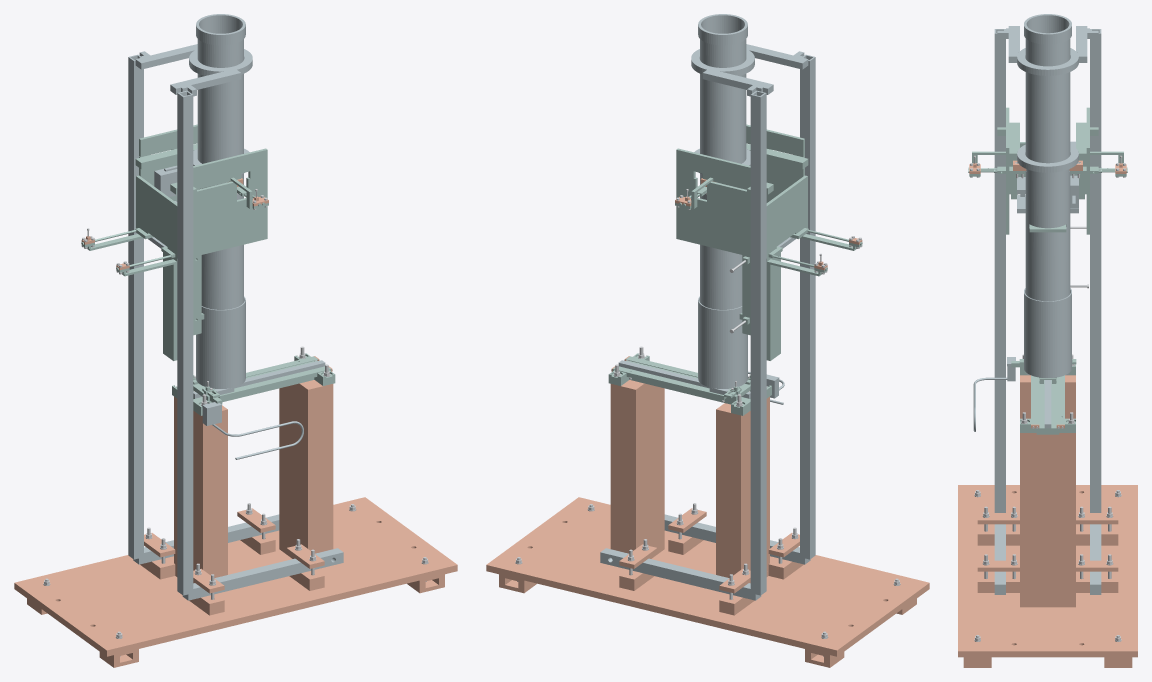
Rendered from BM1_R4_fixture.glb.
3 views of the same model, side by side, from view 1: azimuth 30°, elevation 25°; view 2: azimuth 150°, elevation 25°; view 3: azimuth 270°, elevation 25° (orthographic). The views are drawn at different scales.
Parts seen in each view (by area): view 1: PRT-0602-R3-BASE, PRT-0703-R3-TUBE-1, PRT-0602-A__R, PRT-0601, PRT-0602-A__L, PRT-0602-R3-WALL--1, PRT-0703-R3-TUBE-0, PRT-0606, PRT-0602-G, PRT-0607-A, PRT-0602-B__R, PRT-0703-A (+7 smaller); view 2: PRT-0602-R3-BASE, PRT-0703-R3-TUBE-1, PRT-0602-A__L, PRT-0601, PRT-0602-A__R, PRT-0703-R3-TUBE-0, PRT-0602-R3-WALL-1, PRT-0606, PRT-0602-G, PRT-0607-A, PRT-0602-B__L, PRT-0602-R3-WALL--1 (+7 smaller); view 3: PRT-0602-R3-BASE, PRT-0601, PRT-0703-R3-TUBE-1, PRT-0602-A__L, PRT-0602-A__R, PRT-0606, PRT-0703-A, PRT-0601-A, PRT-0602-B__L, PRT-0602-B__R, PRT-0602-D__410, PRT-0602-D__600 (+22 smaller).
Part boxes in pixels (left/top/right/bottom): PRT-0602-R3-BASE: left=14, top=497, right=457, bottom=656; PRT-0703-R3-TUBE-1: left=279, top=385, right=333, bottom=553; PRT-0602-A__R: left=177, top=90, right=193, bottom=595; PRT-0601: left=197, top=25, right=243, bottom=309; PRT-0602-A__L: left=128, top=54, right=143, bottom=559; PRT-0602-R3-WALL--1: left=193, top=148, right=267, bottom=256; PRT-0703-R3-TUBE-0: left=174, top=400, right=227, bottom=583; PRT-0606: left=196, top=296, right=245, bottom=388; PRT-0602-G: left=83, top=175, right=177, bottom=276; PRT-0607-A: left=163, top=252, right=201, bottom=360; PRT-0602-B__R: left=182, top=548, right=343, bottom=600; PRT-0703-A: left=193, top=356, right=331, bottom=402; PRT-0602-R3-BASE: left=486, top=497, right=929, bottom=656; PRT-0703-R3-TUBE-1: left=610, top=385, right=664, bottom=553; PRT-0602-A__L: left=750, top=90, right=766, bottom=595; PRT-0601: left=700, top=25, right=746, bottom=309; PRT-0602-A__R: left=800, top=54, right=815, bottom=559; PRT-0703-R3-TUBE-0: left=716, top=400, right=769, bottom=583; PRT-0602-R3-WALL-1: left=676, top=148, right=750, bottom=256; PRT-0606: left=698, top=296, right=747, bottom=388; PRT-0602-G: left=766, top=175, right=860, bottom=276; PRT-0607-A: left=742, top=252, right=780, bottom=360; PRT-0602-B__L: left=600, top=548, right=761, bottom=600; PRT-0602-R3-WALL--1: left=746, top=124, right=804, bottom=202; PRT-0602-R3-BASE: left=958, top=485, right=1137, bottom=657; PRT-0601: left=1025, top=25, right=1070, bottom=301; PRT-0703-R3-TUBE-1: left=1020, top=437, right=1075, bottom=602; PRT-0602-A__L: left=1090, top=29, right=1101, bottom=512; PRT-0602-A__R: left=994, top=29, right=1005, bottom=512; PRT-0606: left=1024, top=288, right=1071, bottom=378; PRT-0703-A: left=1031, top=375, right=1064, bottom=434; PRT-0601-A: left=1024, top=14, right=1071, bottom=44; PRT-0602-B__L: left=1090, top=524, right=1101, bottom=594; PRT-0602-B__R: left=994, top=524, right=1005, bottom=594; PRT-0602-D__410: left=1017, top=153, right=1078, bottom=172; PRT-0602-D__600: left=1017, top=56, right=1078, bottom=75.
Size of the model in its own units: 0.7 by 1.1 by 0.32.
